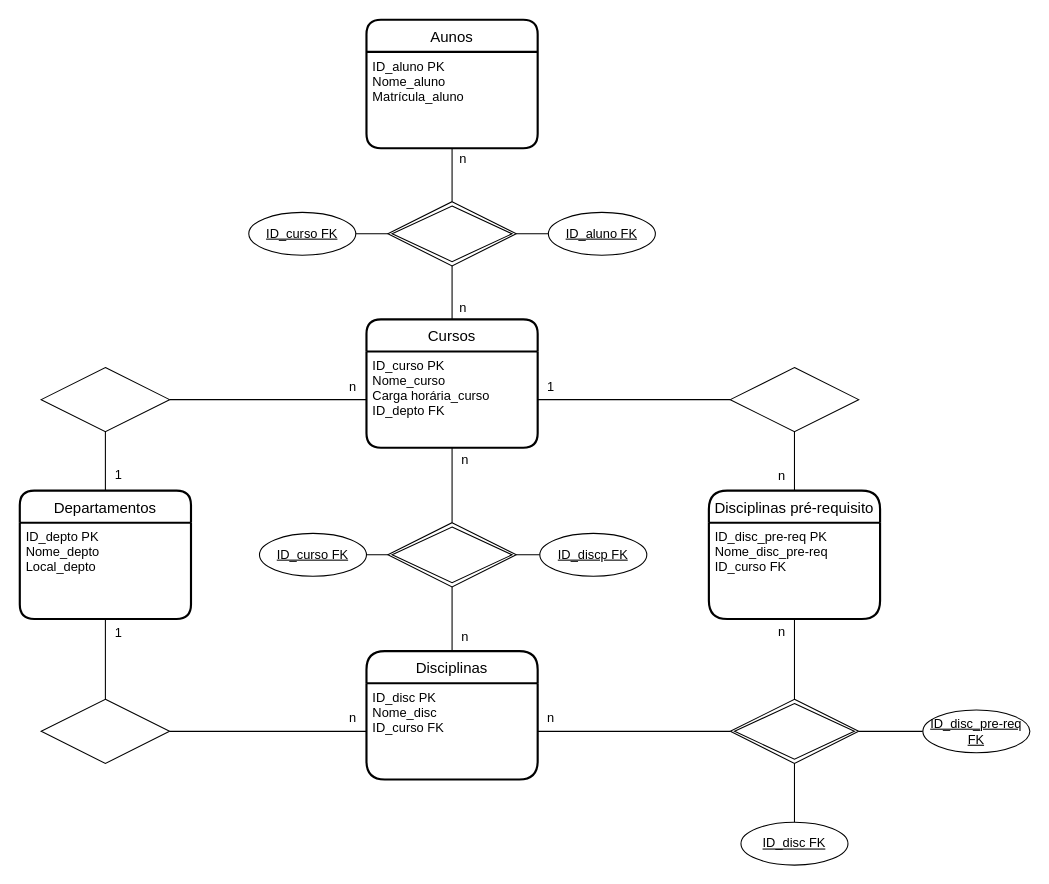
The diagram is 1049 pixels wide and 884 high, and some of its shapes have lost their labels. Here are the shapes that lost their labels. From the top down, the centre of each, then its label:
At point 451,233: "assiste".
At point 105,399: "Coordena".
At point 794,399: "Requere".
At point 451,554: "have".
At point 105,730: "Mantém".
At point 794,730: "liberam".
